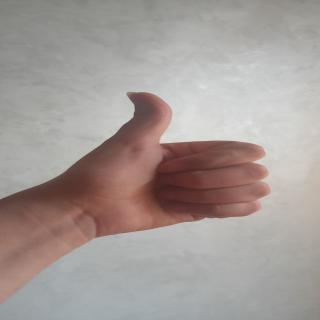ALIF: (46, 88, 284, 245)
